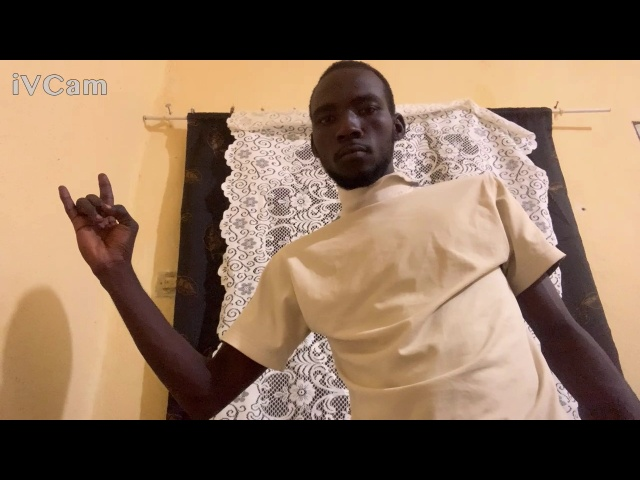je t'aime: (53, 169, 150, 278)
